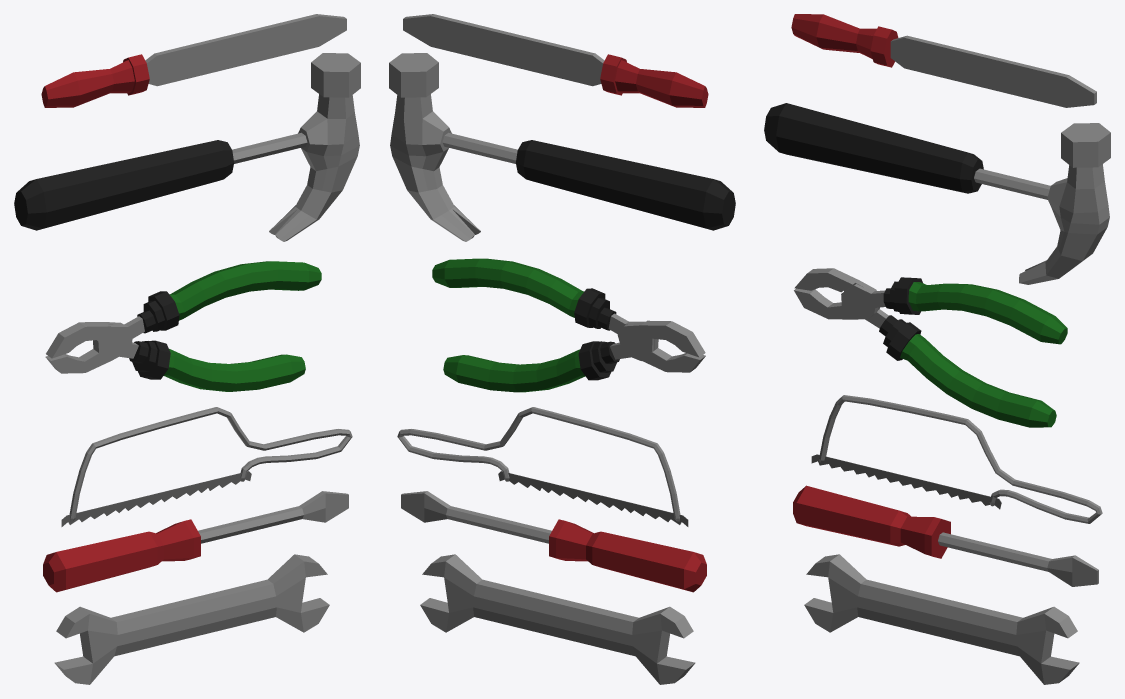
File: Low-Poly tools.fbx
The picture shows the model from 3 angles, left to right: view 1: azimuth 30°, elevation 25°; view 2: azimuth 150°, elevation 25°; view 3: azimuth 330°, elevation 25°; orthographic projection.
Visible parts, largest first — view 1: Hammer, Pliers, Wrench, File, Screwdriver, Saw; view 2: Hammer, Pliers, Wrench, File, Screwdriver, Saw; view 3: Hammer, Pliers, Wrench, File, Screwdriver, Saw.
Boxes of the visible parts, x1=… form: Hammer: x1=14, y1=53, x2=360, y2=241; Pliers: x1=45, y1=261, x2=321, y2=391; Wrench: x1=54, y1=554, x2=329, y2=684; File: x1=41, y1=14, x2=346, y2=107; Screwdriver: x1=43, y1=491, x2=348, y2=592; Saw: x1=61, y1=407, x2=352, y2=526; Hammer: x1=389, y1=53, x2=735, y2=241; Pliers: x1=432, y1=258, x2=705, y2=392; Wrench: x1=420, y1=554, x2=695, y2=684; File: x1=403, y1=14, x2=708, y2=107; Screwdriver: x1=401, y1=491, x2=706, y2=592; Saw: x1=397, y1=407, x2=688, y2=526; Hammer: x1=764, y1=103, x2=1110, y2=284; Pliers: x1=794, y1=268, x2=1067, y2=427; Wrench: x1=804, y1=554, x2=1079, y2=684; File: x1=791, y1=14, x2=1096, y2=107; Screwdriver: x1=793, y1=485, x2=1098, y2=586; Saw: x1=811, y1=395, x2=1102, y2=523.
Size of the model in its own units: 231 by 406 by 31.53.
